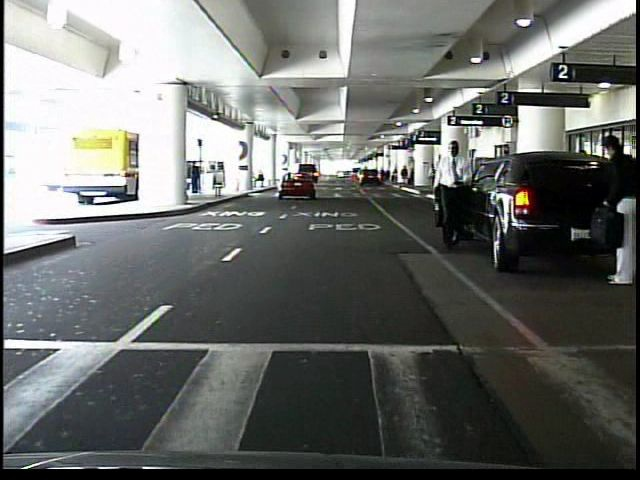person: (588, 135, 637, 286), (432, 136, 467, 247), (188, 159, 202, 196), (401, 165, 410, 188)
